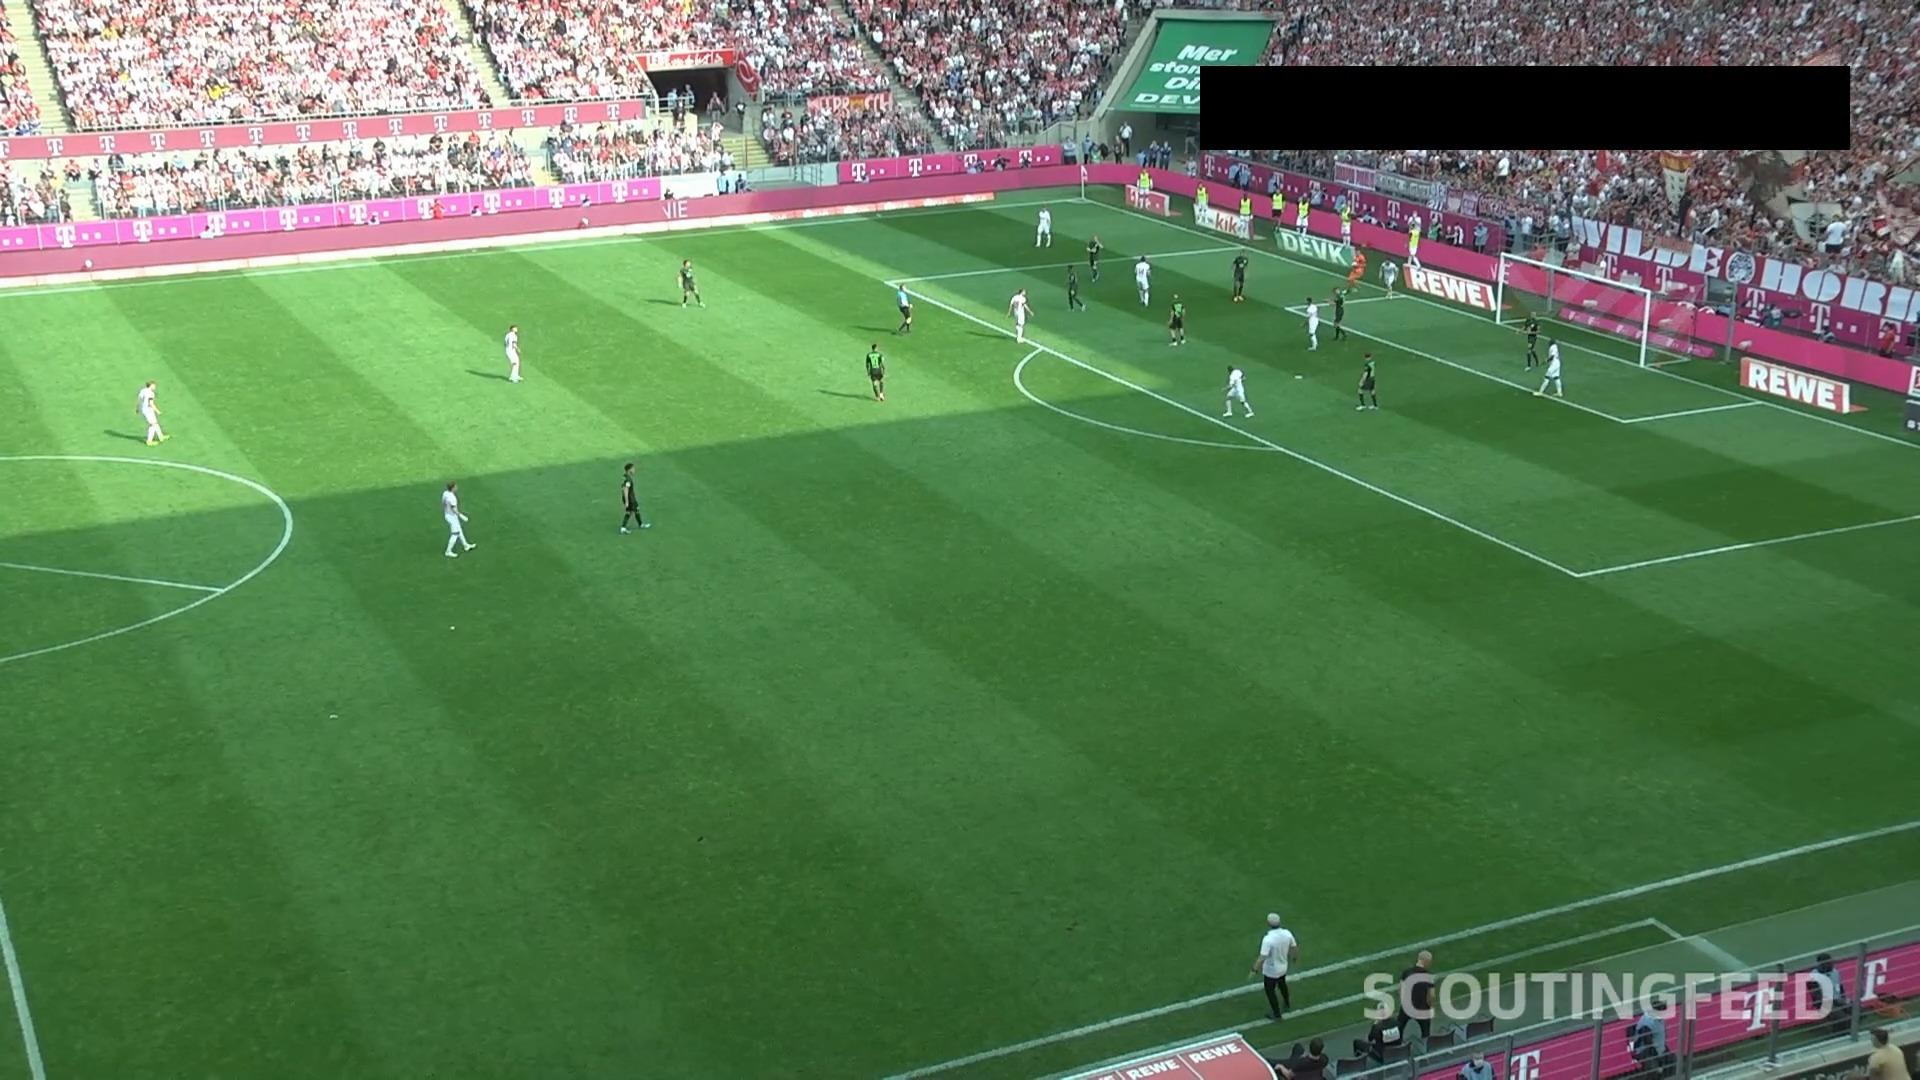ball: (1350, 260, 1360, 268)
